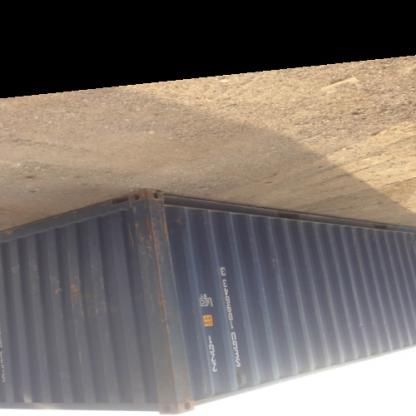Damage: (138, 212, 178, 394), (340, 235, 382, 271), (63, 268, 91, 314), (352, 318, 376, 336)
